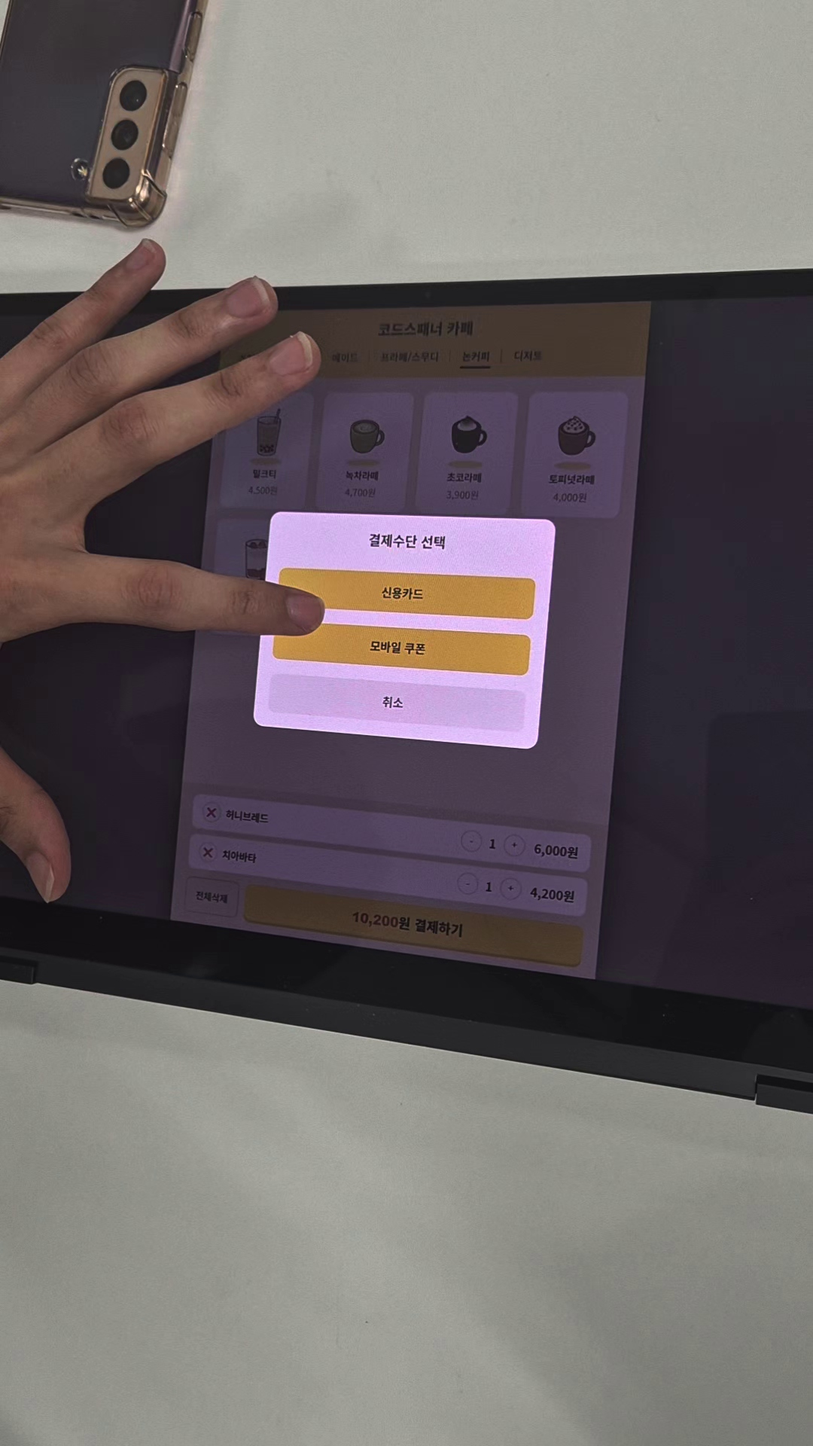action_button: (244, 885, 587, 971), (268, 673, 528, 733), (277, 566, 535, 620), (272, 621, 530, 675), (186, 879, 235, 917)
cart_item: (187, 836, 587, 918), (190, 795, 591, 875)
category_tab: (379, 351, 440, 363), (460, 350, 490, 362), (512, 350, 542, 362), (331, 352, 359, 363)
menu_back: (519, 395, 626, 521), (413, 396, 517, 522), (310, 394, 411, 518), (217, 393, 313, 513)
menu_name: (546, 474, 597, 489), (446, 472, 483, 484), (343, 470, 380, 482), (251, 469, 277, 480)
menu_price: (551, 492, 586, 504), (345, 487, 377, 500), (446, 490, 479, 502), (247, 485, 279, 497)
popup_modal: (250, 511, 556, 750)
